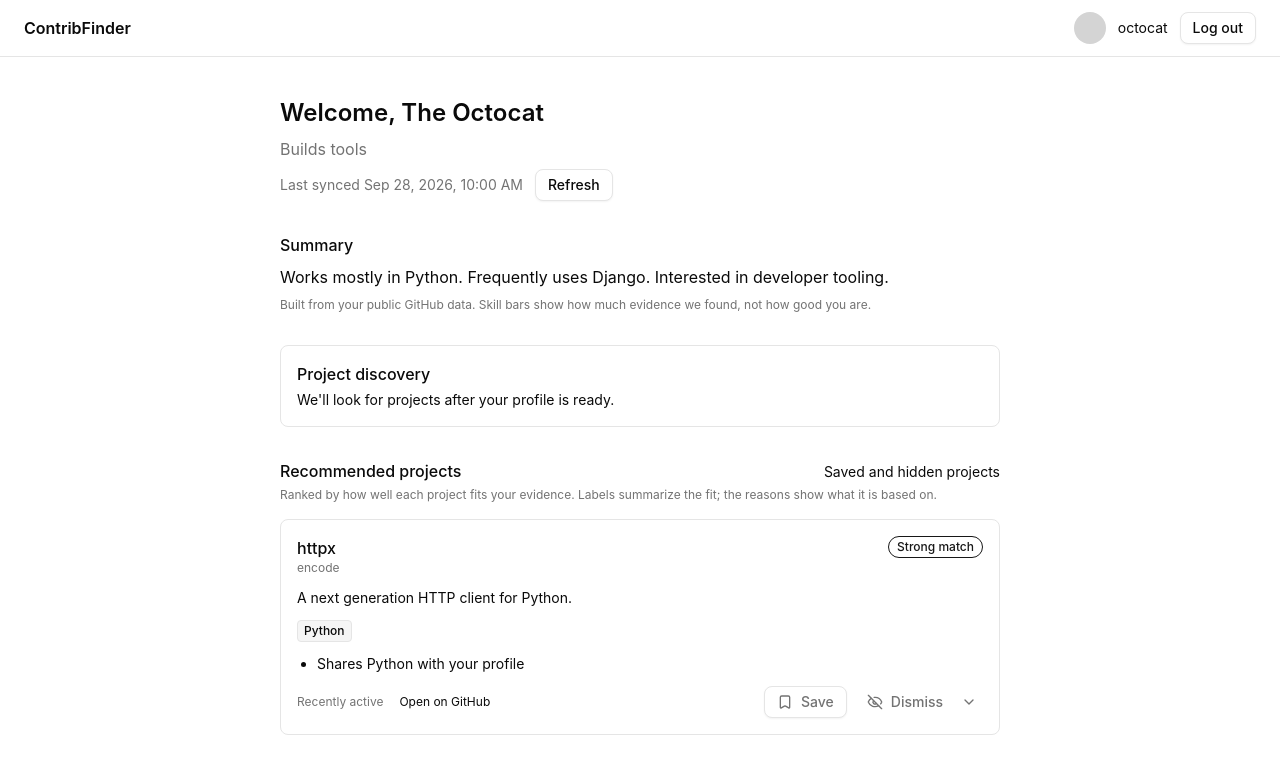
Test: save and dismiss › removes a dismissed card at once, and Undo restores it
Click the button "Dismiss" at [905, 702], box [855, 686, 955, 718]
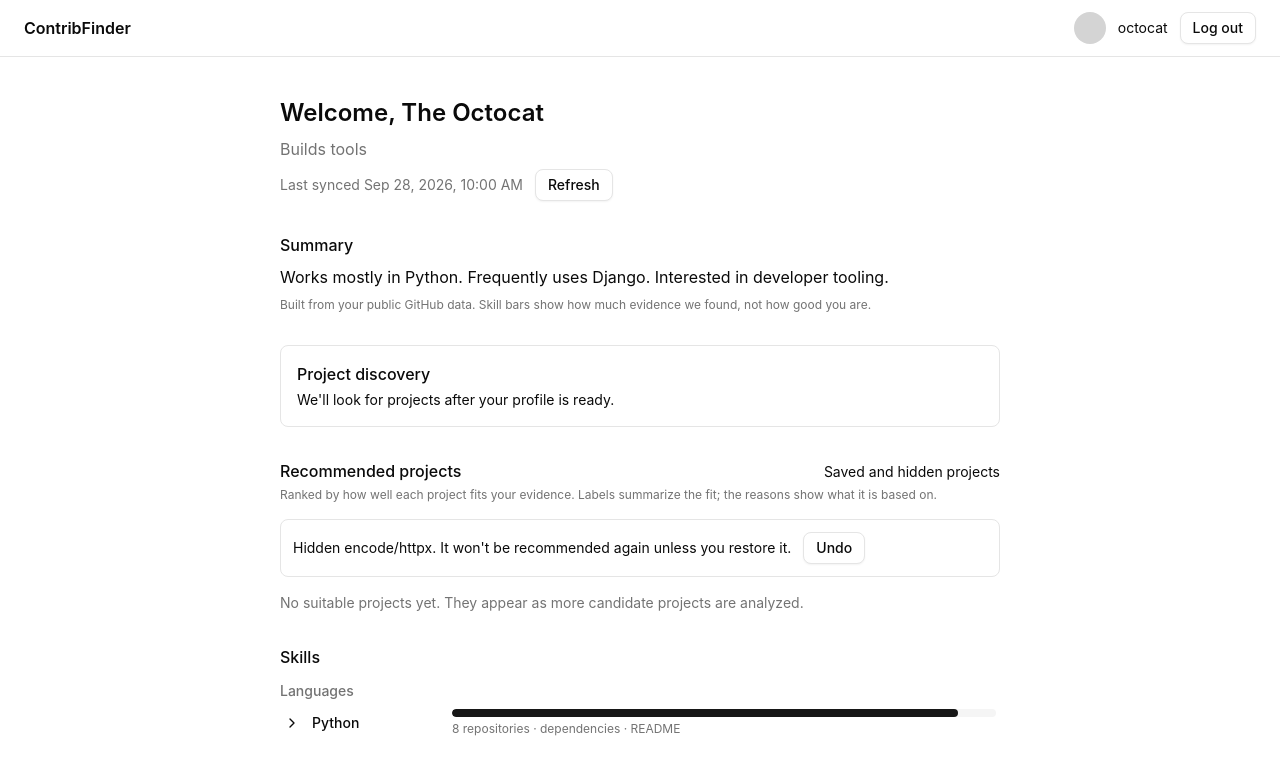
Click the button "Undo" at [834, 548], box [803, 532, 865, 564]
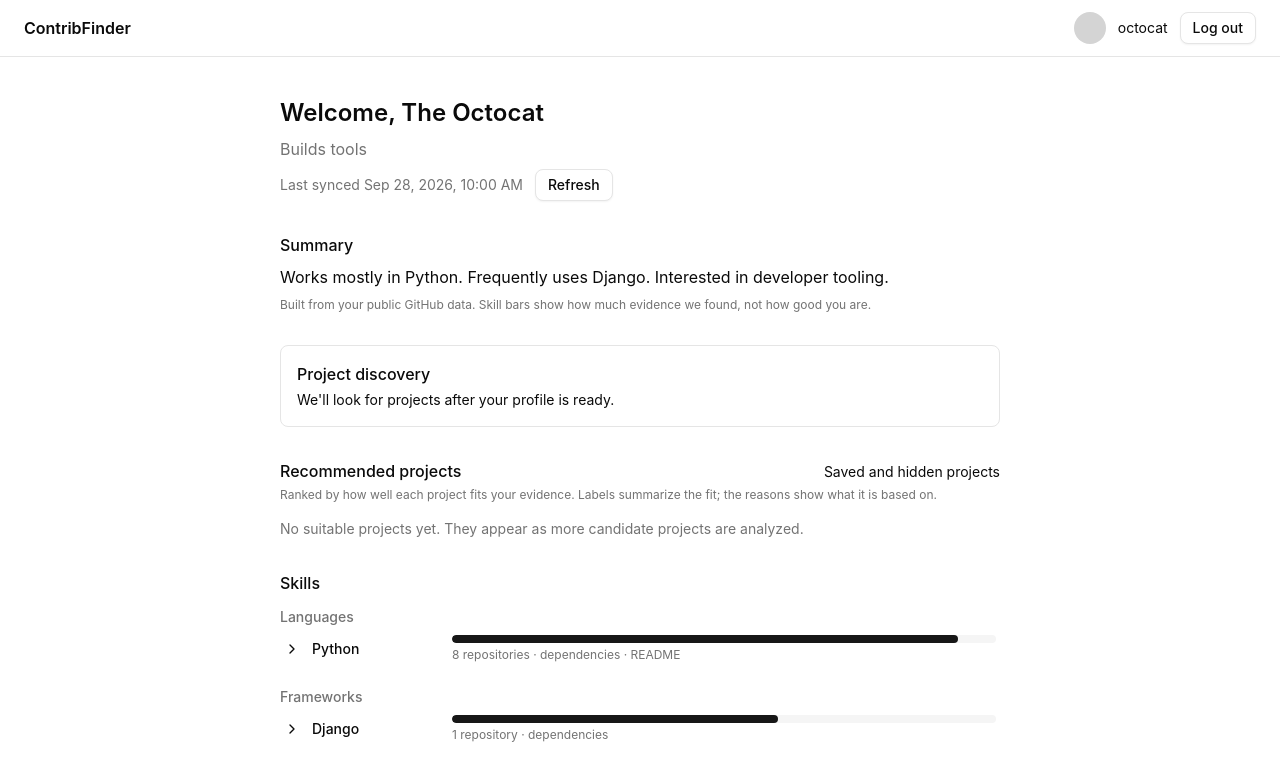
Expected: the text "Hidden encode/httpx" is gone
